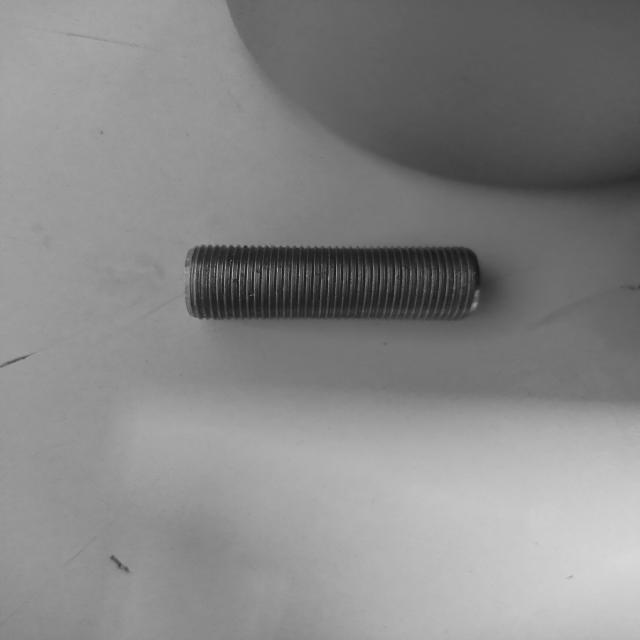Normal: (186, 244, 482, 320)
